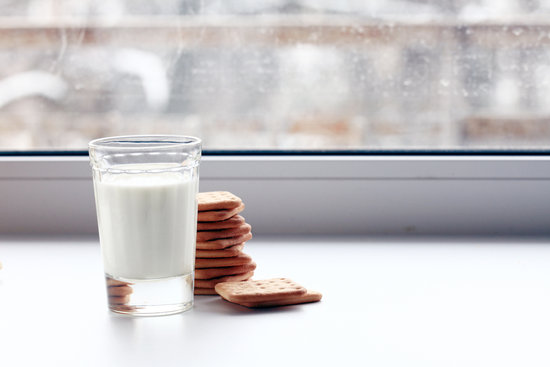glass of milk: (89, 136, 199, 309)
